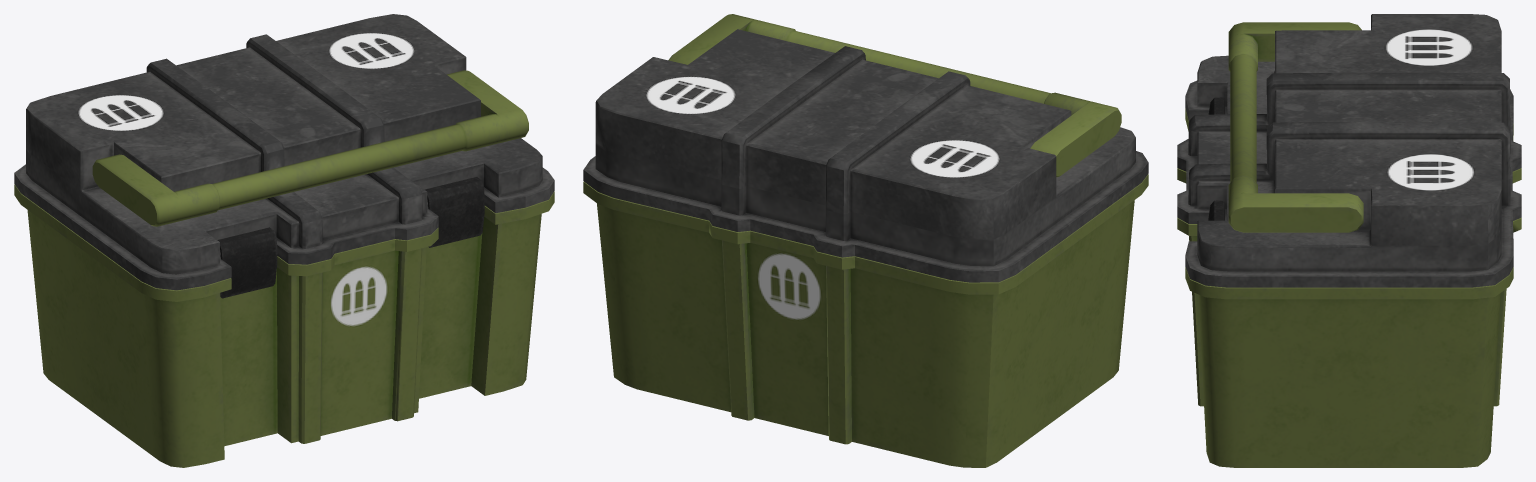
The model's file is plastic_ammo_crate_box.glb.
The picture shows the model from 3 angles, left to right: view 1: azimuth 30°, elevation 25°; view 2: azimuth 150°, elevation 25°; view 3: azimuth 270°, elevation 25°; orthographic projection. The views are drawn at different scales.
Parts seen in each view (by area): view 1: PlasticToolBox003_PlasticToolBox_0; view 2: PlasticToolBox003_PlasticToolBox_0; view 3: PlasticToolBox003_PlasticToolBox_0.
Boxes of the visible parts, left/top/right/bottom form: PlasticToolBox003_PlasticToolBox_0: left=14, top=14, right=554, bottom=467; PlasticToolBox003_PlasticToolBox_0: left=583, top=14, right=1148, bottom=467; PlasticToolBox003_PlasticToolBox_0: left=1177, top=14, right=1521, bottom=467.
Size of the model in its own units: 80.64 by 51.66 by 58.15.
Materials: 1 (1 with a texture image).
